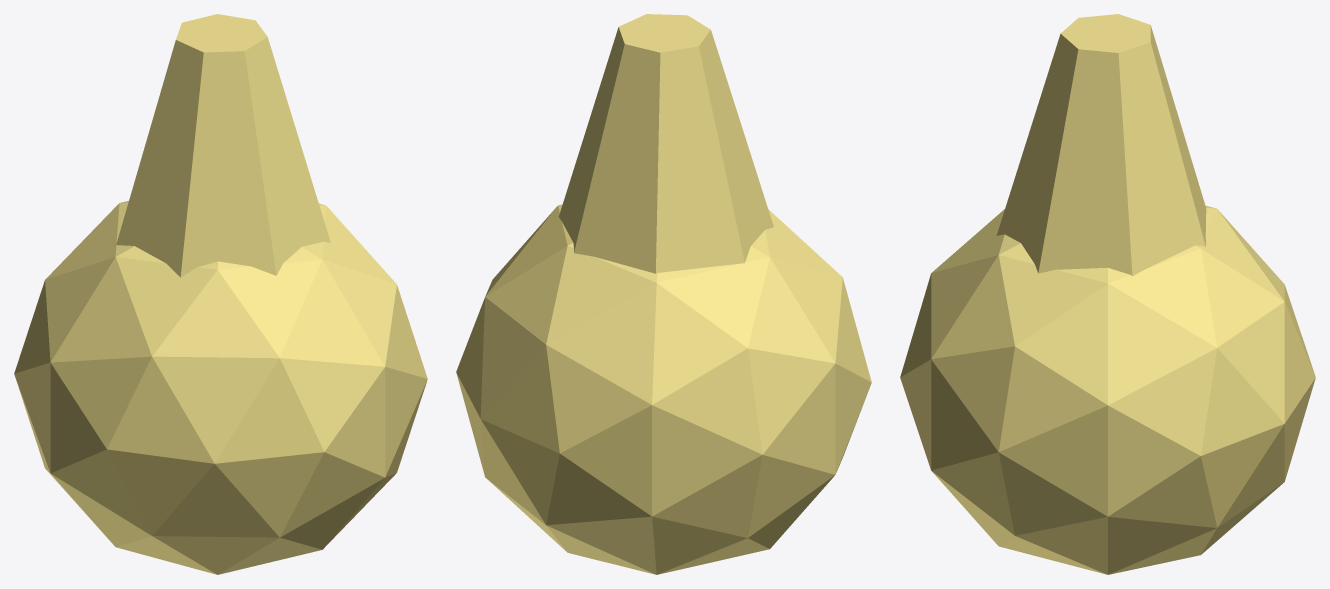
Rendered from fruta_pera.fbx.
3 views of the same model, side by side, from view 1: azimuth 30°, elevation 25°; view 2: azimuth 150°, elevation 25°; view 3: azimuth 270°, elevation 25° (orthographic).
Parts seen in each view (by area): view 1: fruta_pera~Fruta@pear; view 2: fruta_pera~Fruta@pear; view 3: fruta_pera~Fruta@pear.
Part boxes in pixels (bbox=[...]): fruta_pera~Fruta@pear: bbox=[14, 14, 427, 574]; fruta_pera~Fruta@pear: bbox=[456, 14, 871, 574]; fruta_pera~Fruta@pear: bbox=[900, 14, 1315, 574].
Bounding box in the file's own units: 0.2187 × 0.32 × 0.23.
